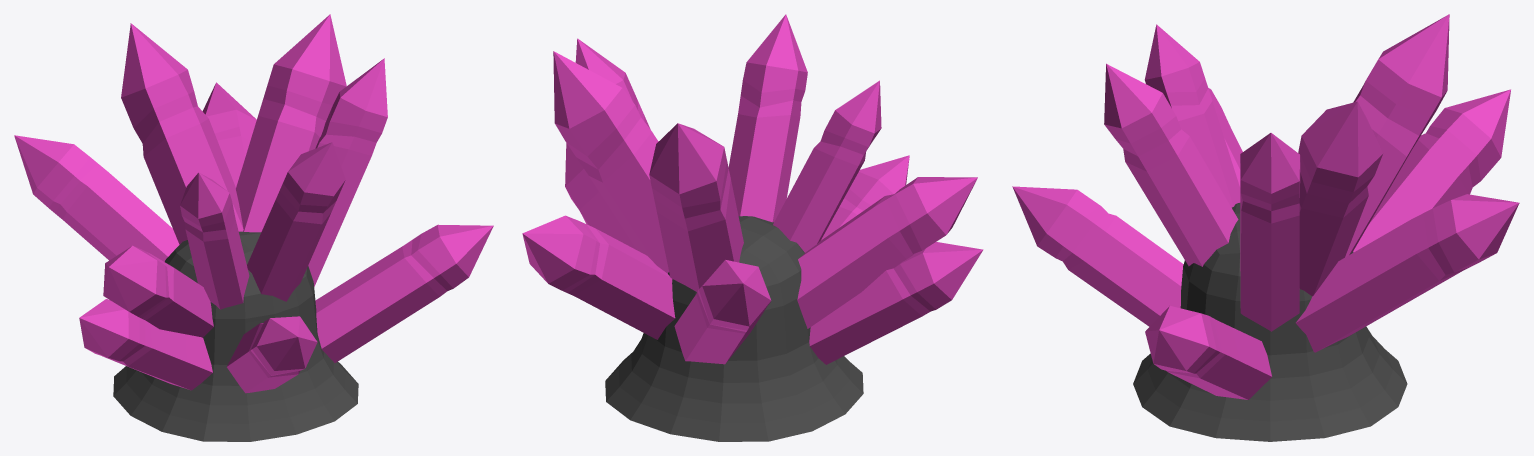
Rendered from mineral.glb.
The picture shows the model from 3 angles, left to right: view 1: azimuth 30°, elevation 25°; view 2: azimuth 150°, elevation 25°; view 3: azimuth 270°, elevation 25°; orthographic projection. The views are drawn at different scales.
Parts seen in each view (by area): view 1: Mineral; view 2: Mineral; view 3: Mineral.
Boxes of the visible parts, <box> form: Mineral: <box>14,14,493,441</box>; Mineral: <box>522,14,983,441</box>; Mineral: <box>1012,14,1519,441</box>.
Size of the model in its own units: 0.5876 by 0.4367 by 0.5644.
